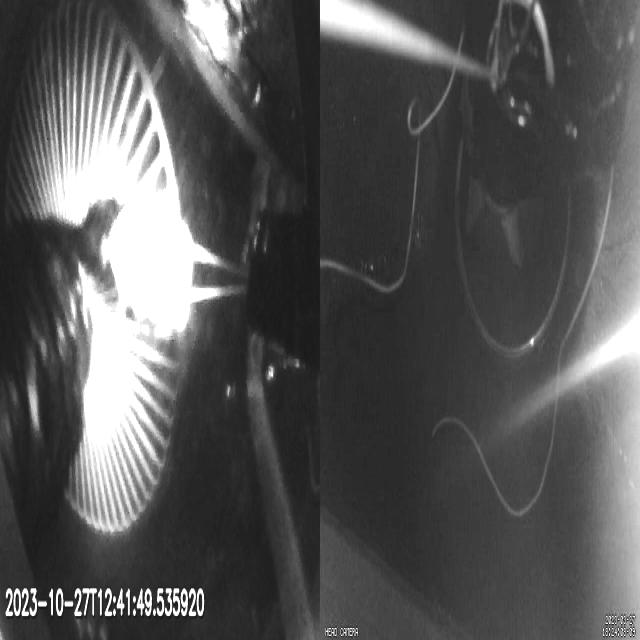head: (118, 199, 192, 332)
